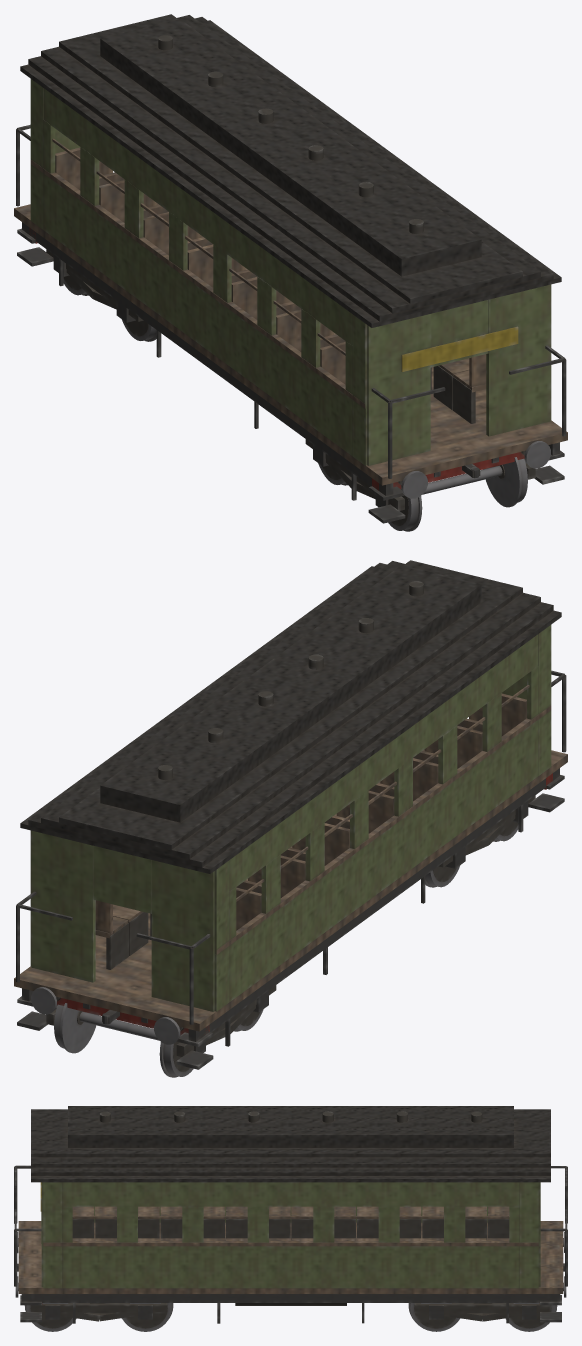
File: feWagonPassengerCar_HD.fbx
The picture shows the model from 3 angles, top to bottom: view 1: azimuth 30°, elevation 25°; view 2: azimuth 150°, elevation 25°; view 3: azimuth 270°, elevation 25°; orthographic projection. The views are drawn at different scales.
Visible parts, largest first — view 1: feWagonPassengerCar_Body, FeSpin_r0.42_Bogie00; view 2: feWagonPassengerCar_Body, FeSpin_r0.42_Bogie11; view 3: feWagonPassengerCar_Body, FeSpin_r0.42_Bogie01, FeSpin_r0.42_Bogie10, FeSpin_r0.42_Bogie11, FeSpin_r0.42_Bogie00.
Boxes of the visible parts, box(x1,y1,x2,y2) form: feWagonPassengerCar_Body: box(14, 14, 567, 523); FeSpin_r0.42_Bogie00: box(388, 457, 527, 531); feWagonPassengerCar_Body: box(14, 560, 567, 1069); FeSpin_r0.42_Bogie11: box(54, 1003, 193, 1077); feWagonPassengerCar_Body: box(14, 1106, 567, 1323); FeSpin_r0.42_Bogie01: box(122, 1303, 173, 1331); FeSpin_r0.42_Bogie10: box(408, 1303, 460, 1331); FeSpin_r0.42_Bogie11: box(505, 1305, 557, 1331); FeSpin_r0.42_Bogie00: box(24, 1305, 76, 1331).
Size of the model in its own units: 2.62 by 3.54 by 8.95.
Materials: 1 (1 with a texture image).
